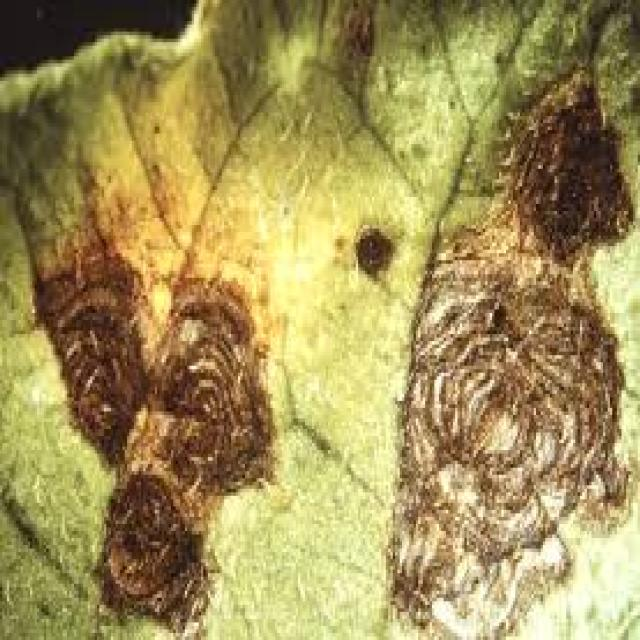earlyblight: (391, 70, 632, 638), (35, 226, 271, 629), (355, 224, 395, 279)
